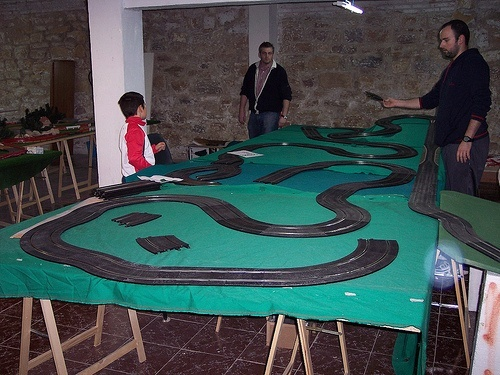head: (433, 17, 473, 63), (116, 90, 148, 124), (256, 41, 276, 67)
person: (370, 18, 491, 196), (237, 39, 290, 138), (114, 93, 166, 175)
